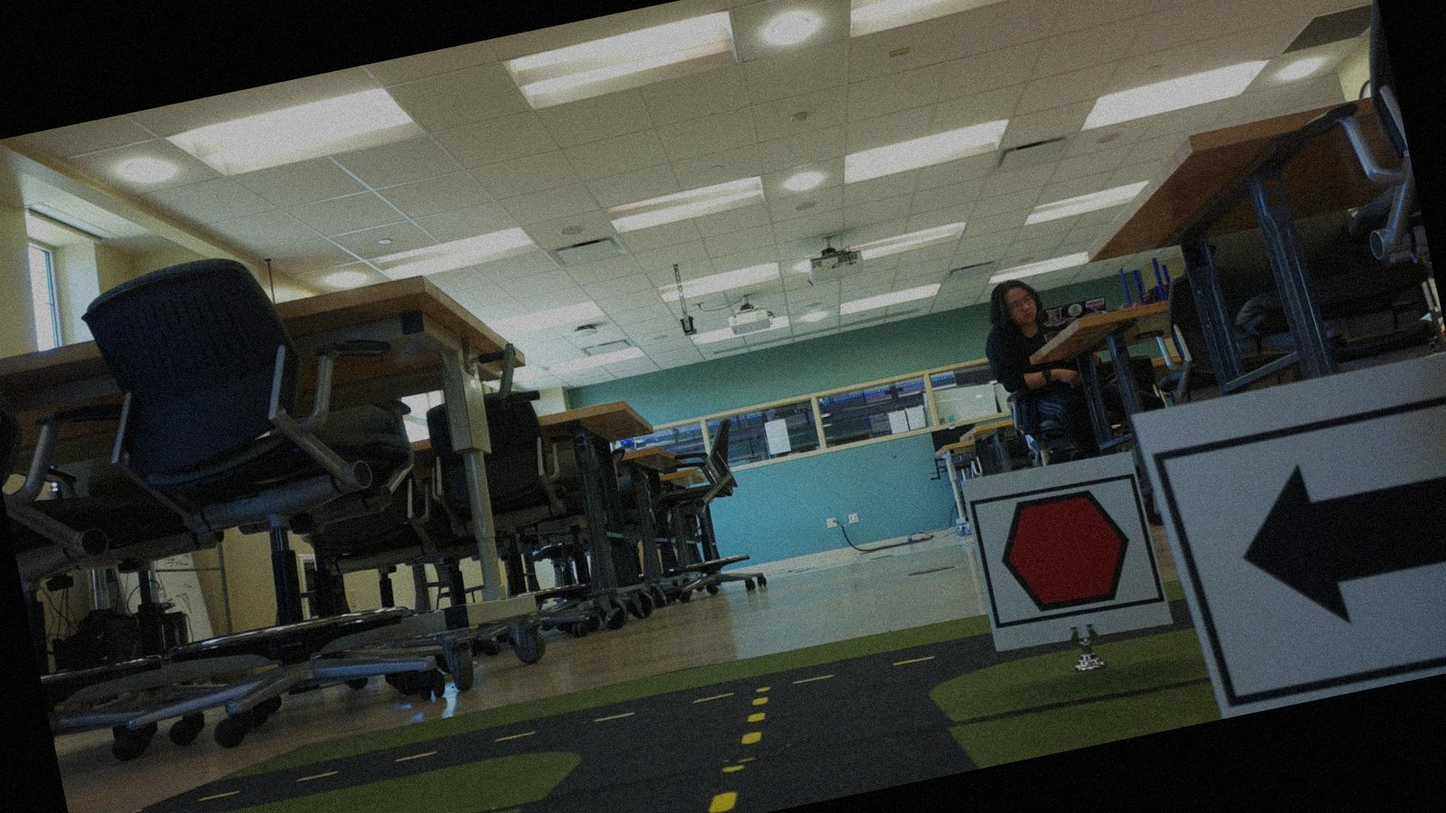stop: (970, 474, 1156, 631)
turnright: (1167, 397, 1445, 705)
yellowline: (688, 693, 791, 812)
